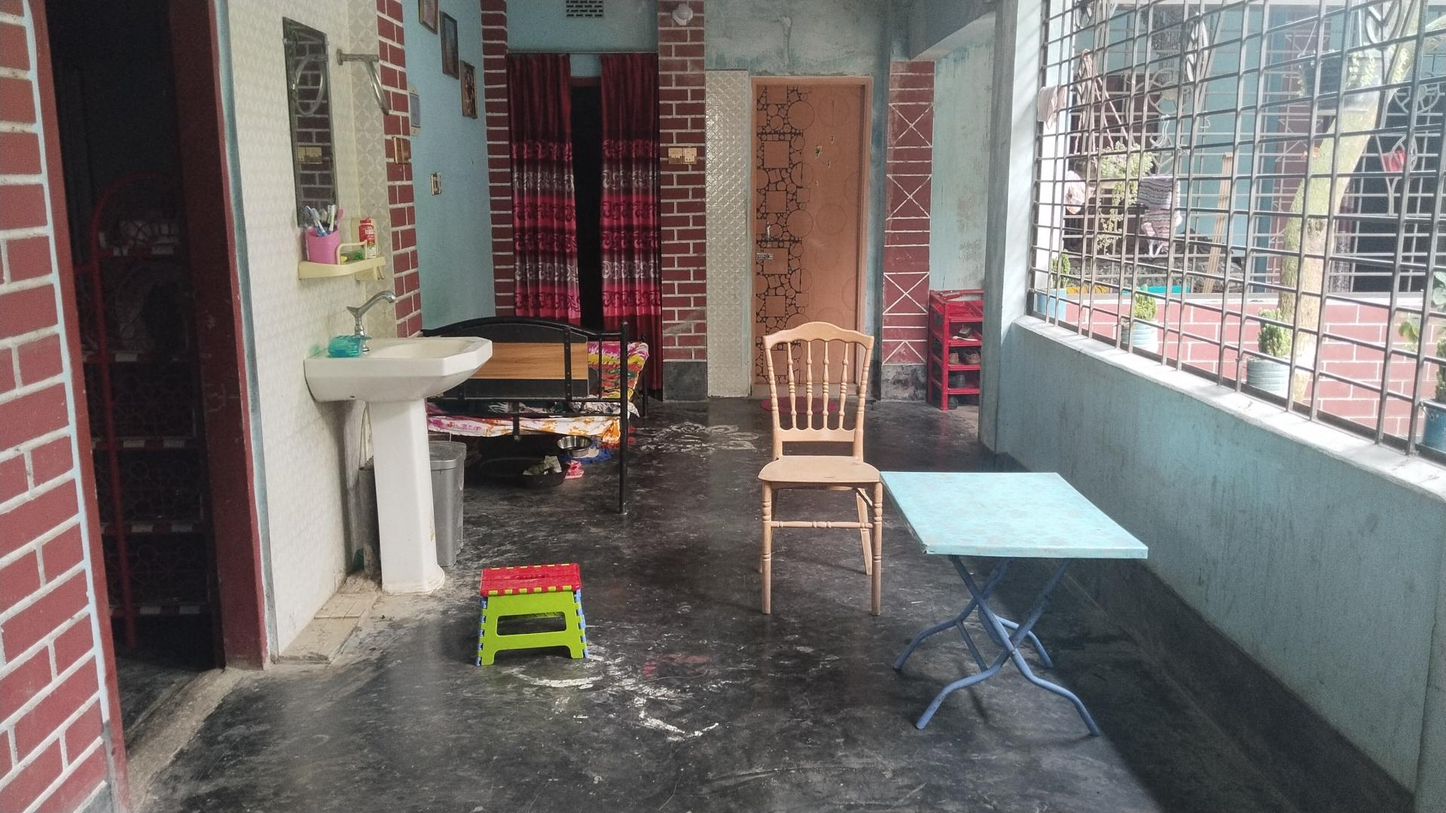Chair: (757, 327, 884, 602), (810, 207, 824, 218)
Door: (750, 82, 853, 395)
Stool: (474, 558, 592, 658)
Table: (882, 464, 1138, 745)
